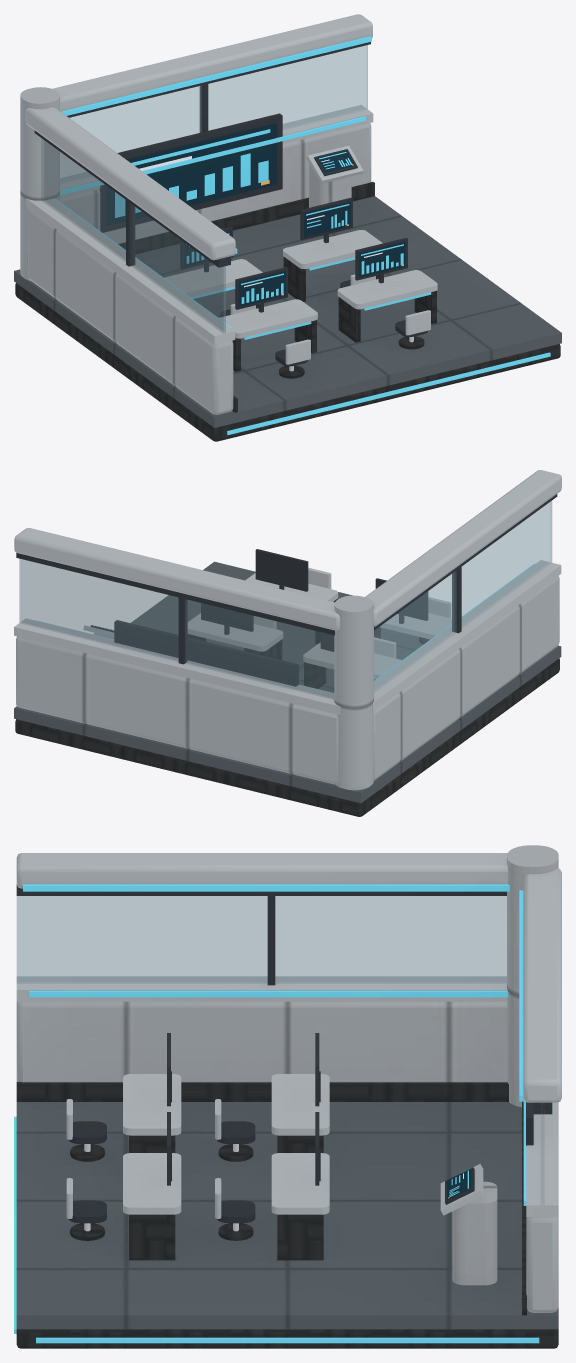
The model's file is enterprise_school.glb.
The picture shows the model from 3 angles, top to bottom: view 1: azimuth 30°, elevation 25°; view 2: azimuth 150°, elevation 25°; view 3: azimuth 270°, elevation 25°; orthographic projection. The views are drawn at different scales.
Visible parts, largest first — view 1: te_enterprise_school; view 2: te_enterprise_school; view 3: te_enterprise_school.
Boxes of the visible parts, <box> form: te_enterprise_school: <box>14,14,561,441</box>; te_enterprise_school: <box>14,470,561,816</box>; te_enterprise_school: <box>14,845,561,1348</box>.
Bounding box in the file's own units: 0.849 × 0.472 × 0.849.
Materials: 2 (1 with a texture image).
